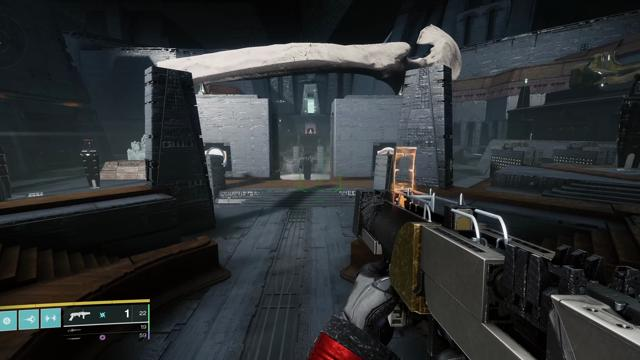pyramid: (377, 147, 394, 155)
traveler: (204, 147, 227, 169)
